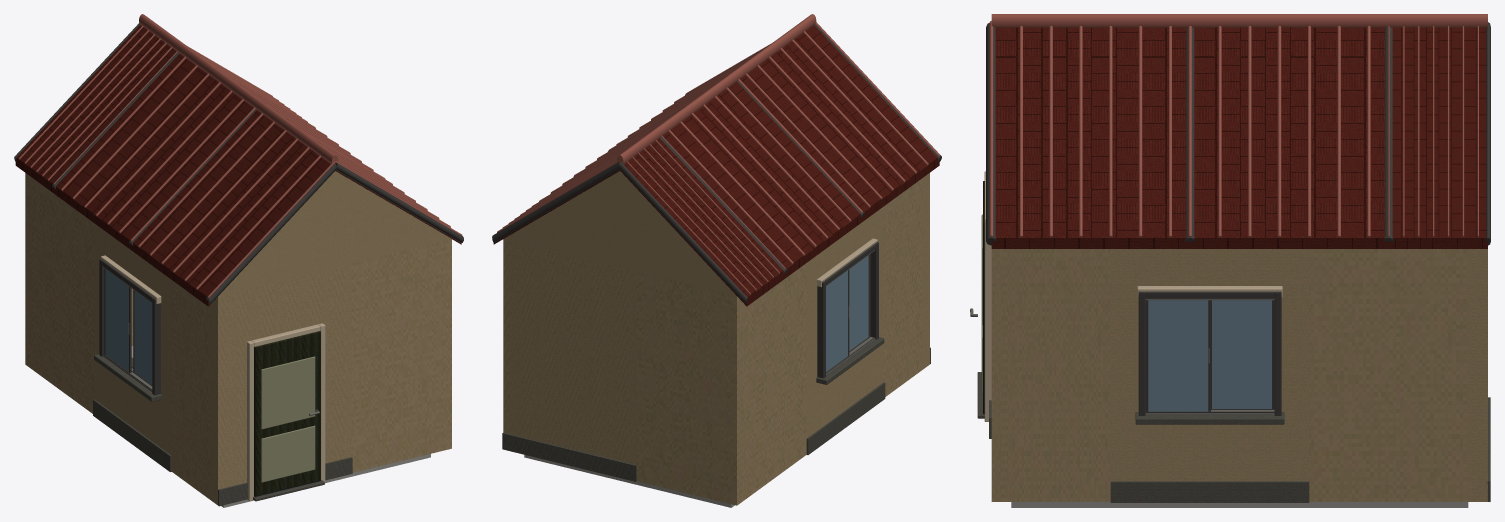
File: MS_RR_A01_TinySingleRoom.glb
3 renders of one model, left to right at view 1: azimuth 30°, elevation 25°; view 2: azimuth 150°, elevation 25°; view 3: azimuth 270°, elevation 25°, orthographic. The views are drawn at different scales.
Visible parts, largest first — view 1: StaticBatch, StaticBatch32, Plaster_005, StaticBatch23, StaticBatch42, RaisedPanel, Leaf_001, StaticBatch6, Frame_004, StaticBatch4, Glass_001, Frame (+3 smaller); view 2: StaticBatch, StaticBatch32, StaticBatch23, StaticBatch42, StaticBatch6, StaticBatch2, StaticBatch4, Frame, Glass_001, Glass, Plaster_005, StaticBatch5; view 3: StaticBatch, StaticBatch32, StaticBatch23, Glass_0012, Glass2, StaticBatch4, StaticBatch6, Frame2, StaticBatch5, Frame_004, StaticBatch3, SashFrame_0042 (+1 smaller).
Part boxes in pixels (left/top/right/bottom): StaticBatch: left=25, top=173, right=451, bottom=499; StaticBatch32: left=15, top=25, right=461, bottom=306; Plaster_005: left=210, top=263, right=351, bottom=505; StaticBatch23: left=19, top=14, right=462, bottom=297; StaticBatch42: left=219, top=171, right=451, bottom=295; RaisedPanel: left=261, top=356, right=315, bottom=482; Leaf_001: left=254, top=331, right=320, bottom=496; StaticBatch6: left=14, top=23, right=463, bottom=304; Frame_004: left=247, top=323, right=325, bottom=501; StaticBatch4: left=93, top=354, right=171, bottom=471; Glass_001: left=105, top=269, right=128, bottom=371; Frame: left=99, top=259, right=160, bottom=395; StaticBatch: left=503, top=178, right=922, bottom=505; StaticBatch32: left=493, top=25, right=939, bottom=306; StaticBatch23: left=497, top=14, right=940, bottom=295; StaticBatch42: left=504, top=171, right=735, bottom=295; StaticBatch6: left=492, top=22, right=941, bottom=303; StaticBatch2: left=502, top=432, right=636, bottom=481; StaticBatch4: left=806, top=337, right=885, bottom=454; Frame: left=817, top=242, right=878, bottom=378; Glass_001: left=826, top=270, right=847, bottom=371; Glass: left=849, top=255, right=868, bottom=350; Plaster_005: left=922, top=173, right=929, bottom=369; StaticBatch5: left=524, top=455, right=734, bottom=507; StaticBatch: left=991, top=249, right=1487, bottom=501; StaticBatch32: left=991, top=27, right=1487, bottom=248; StaticBatch23: left=989, top=14, right=1487, bottom=237; Glass_0012: left=1148, top=300, right=1208, bottom=411; Glass2: left=1212, top=300, right=1271, bottom=408; StaticBatch4: left=1110, top=412, right=1309, bottom=502; StaticBatch6: left=986, top=22, right=1490, bottom=245; Frame2: left=1138, top=291, right=1281, bottom=415; StaticBatch5: left=1011, top=502, right=1468, bottom=507; Frame_004: left=984, top=171, right=991, bottom=421; StaticBatch3: left=1137, top=286, right=1282, bottom=297; SashFrame_0042: left=1145, top=300, right=1210, bottom=411.
Bounding box in the file's own units: 3.82 × 4.77 × 5.24.
Materials: 21 (6 with a texture image).
